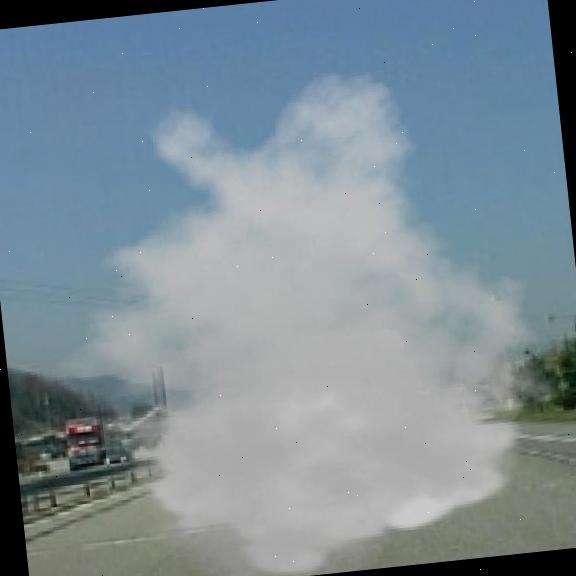smoke: (2, 49, 576, 576)
